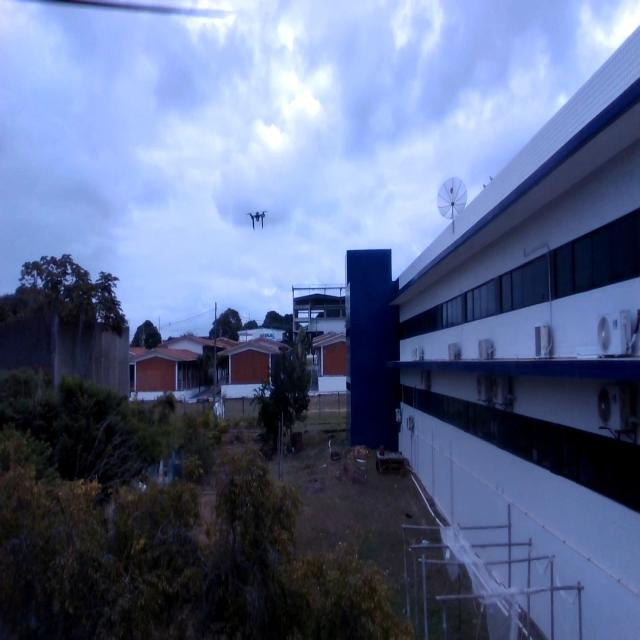-uav-: (240, 194, 274, 246)
